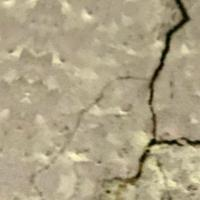crack: (102, 0, 199, 199)
